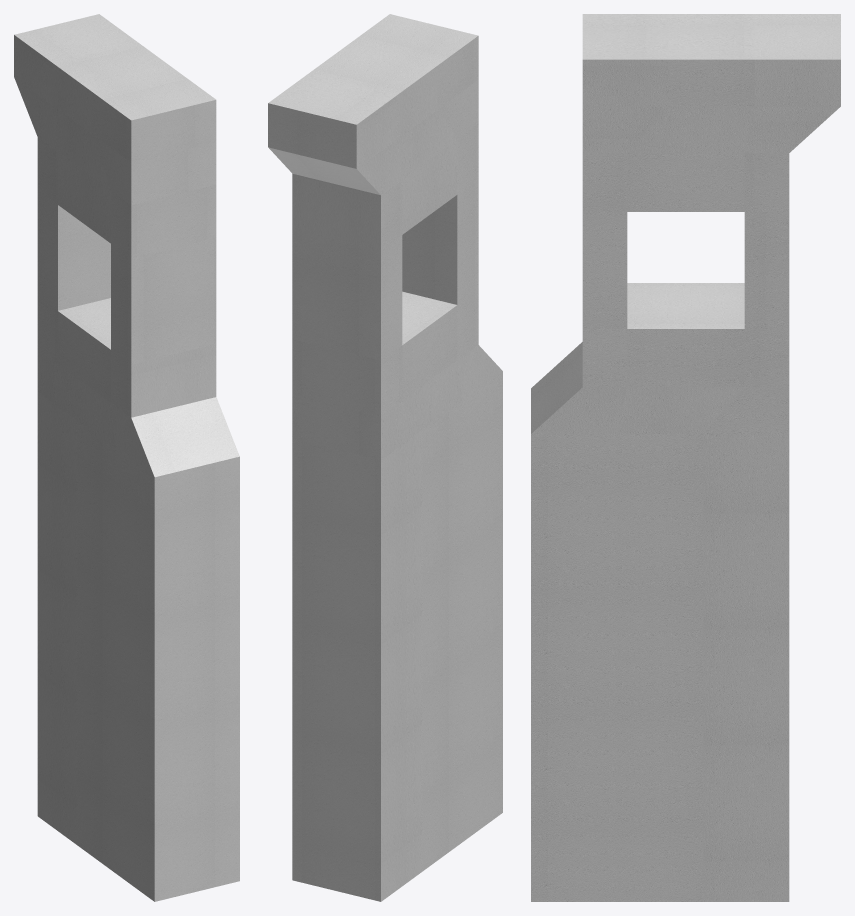
Rendered from BuildingLow1.fbx.
3 views of the same model, side by side, from view 1: azimuth 30°, elevation 25°; view 2: azimuth 150°, elevation 25°; view 3: azimuth 270°, elevation 25° (orthographic). The views are drawn at different scales.
Parts seen in each view (by area): view 1: Cube; view 2: Cube; view 3: Cube.
Part boxes in pixels (box(x1,y1,x2,y2)): Cube: box(14, 14, 239, 901); Cube: box(268, 14, 502, 901); Cube: box(531, 14, 840, 901).
Bounding box in the file's own units: 420 × 3600 × 1200.
